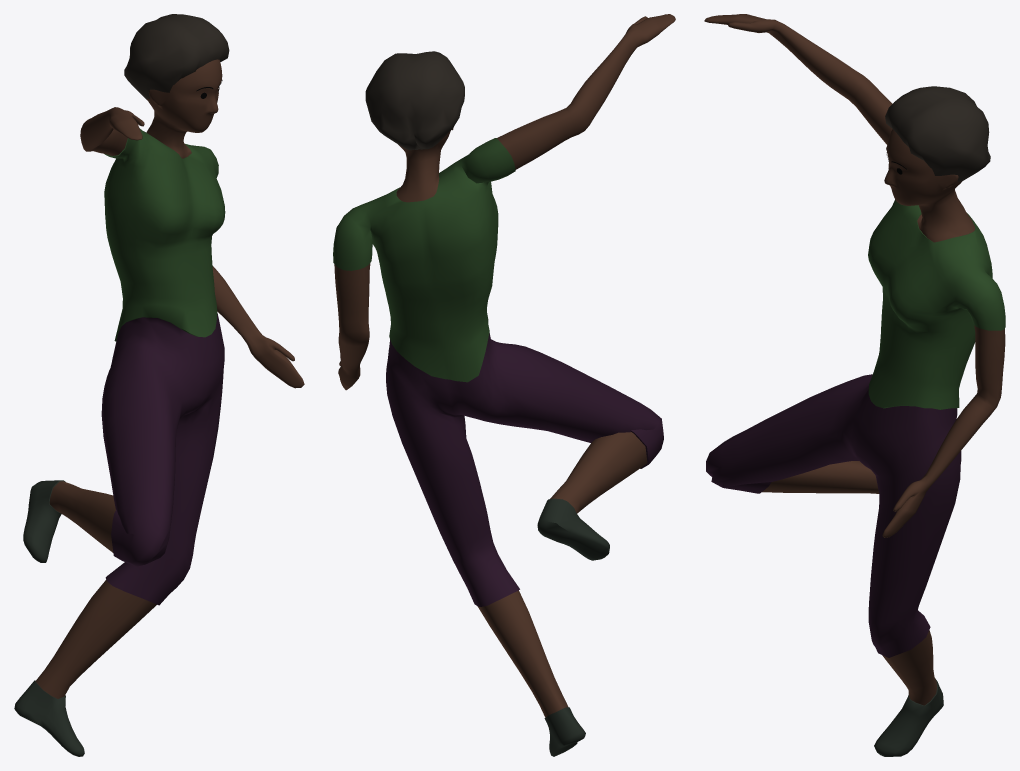
Rendered from Female_Cling_Wall.glb.
The picture shows the model from 3 angles, left to right: view 1: azimuth 30°, elevation 25°; view 2: azimuth 150°, elevation 25°; view 3: azimuth 270°, elevation 25°; orthographic projection. The views are drawn at different scales.
Parts seen in each view (by area): view 1: Female-Cling-Wall; view 2: Female-Cling-Wall; view 3: Female-Cling-Wall.
Boxes of the visible parts, x1=… form: Female-Cling-Wall: x1=14, y1=14, x2=304, y2=756; Female-Cling-Wall: x1=333, y1=14, x2=675, y2=756; Female-Cling-Wall: x1=704, y1=14, x2=1005, y2=756.
Bounding box in the file's own units: 0.6756 × 1.63 × 0.6104.
